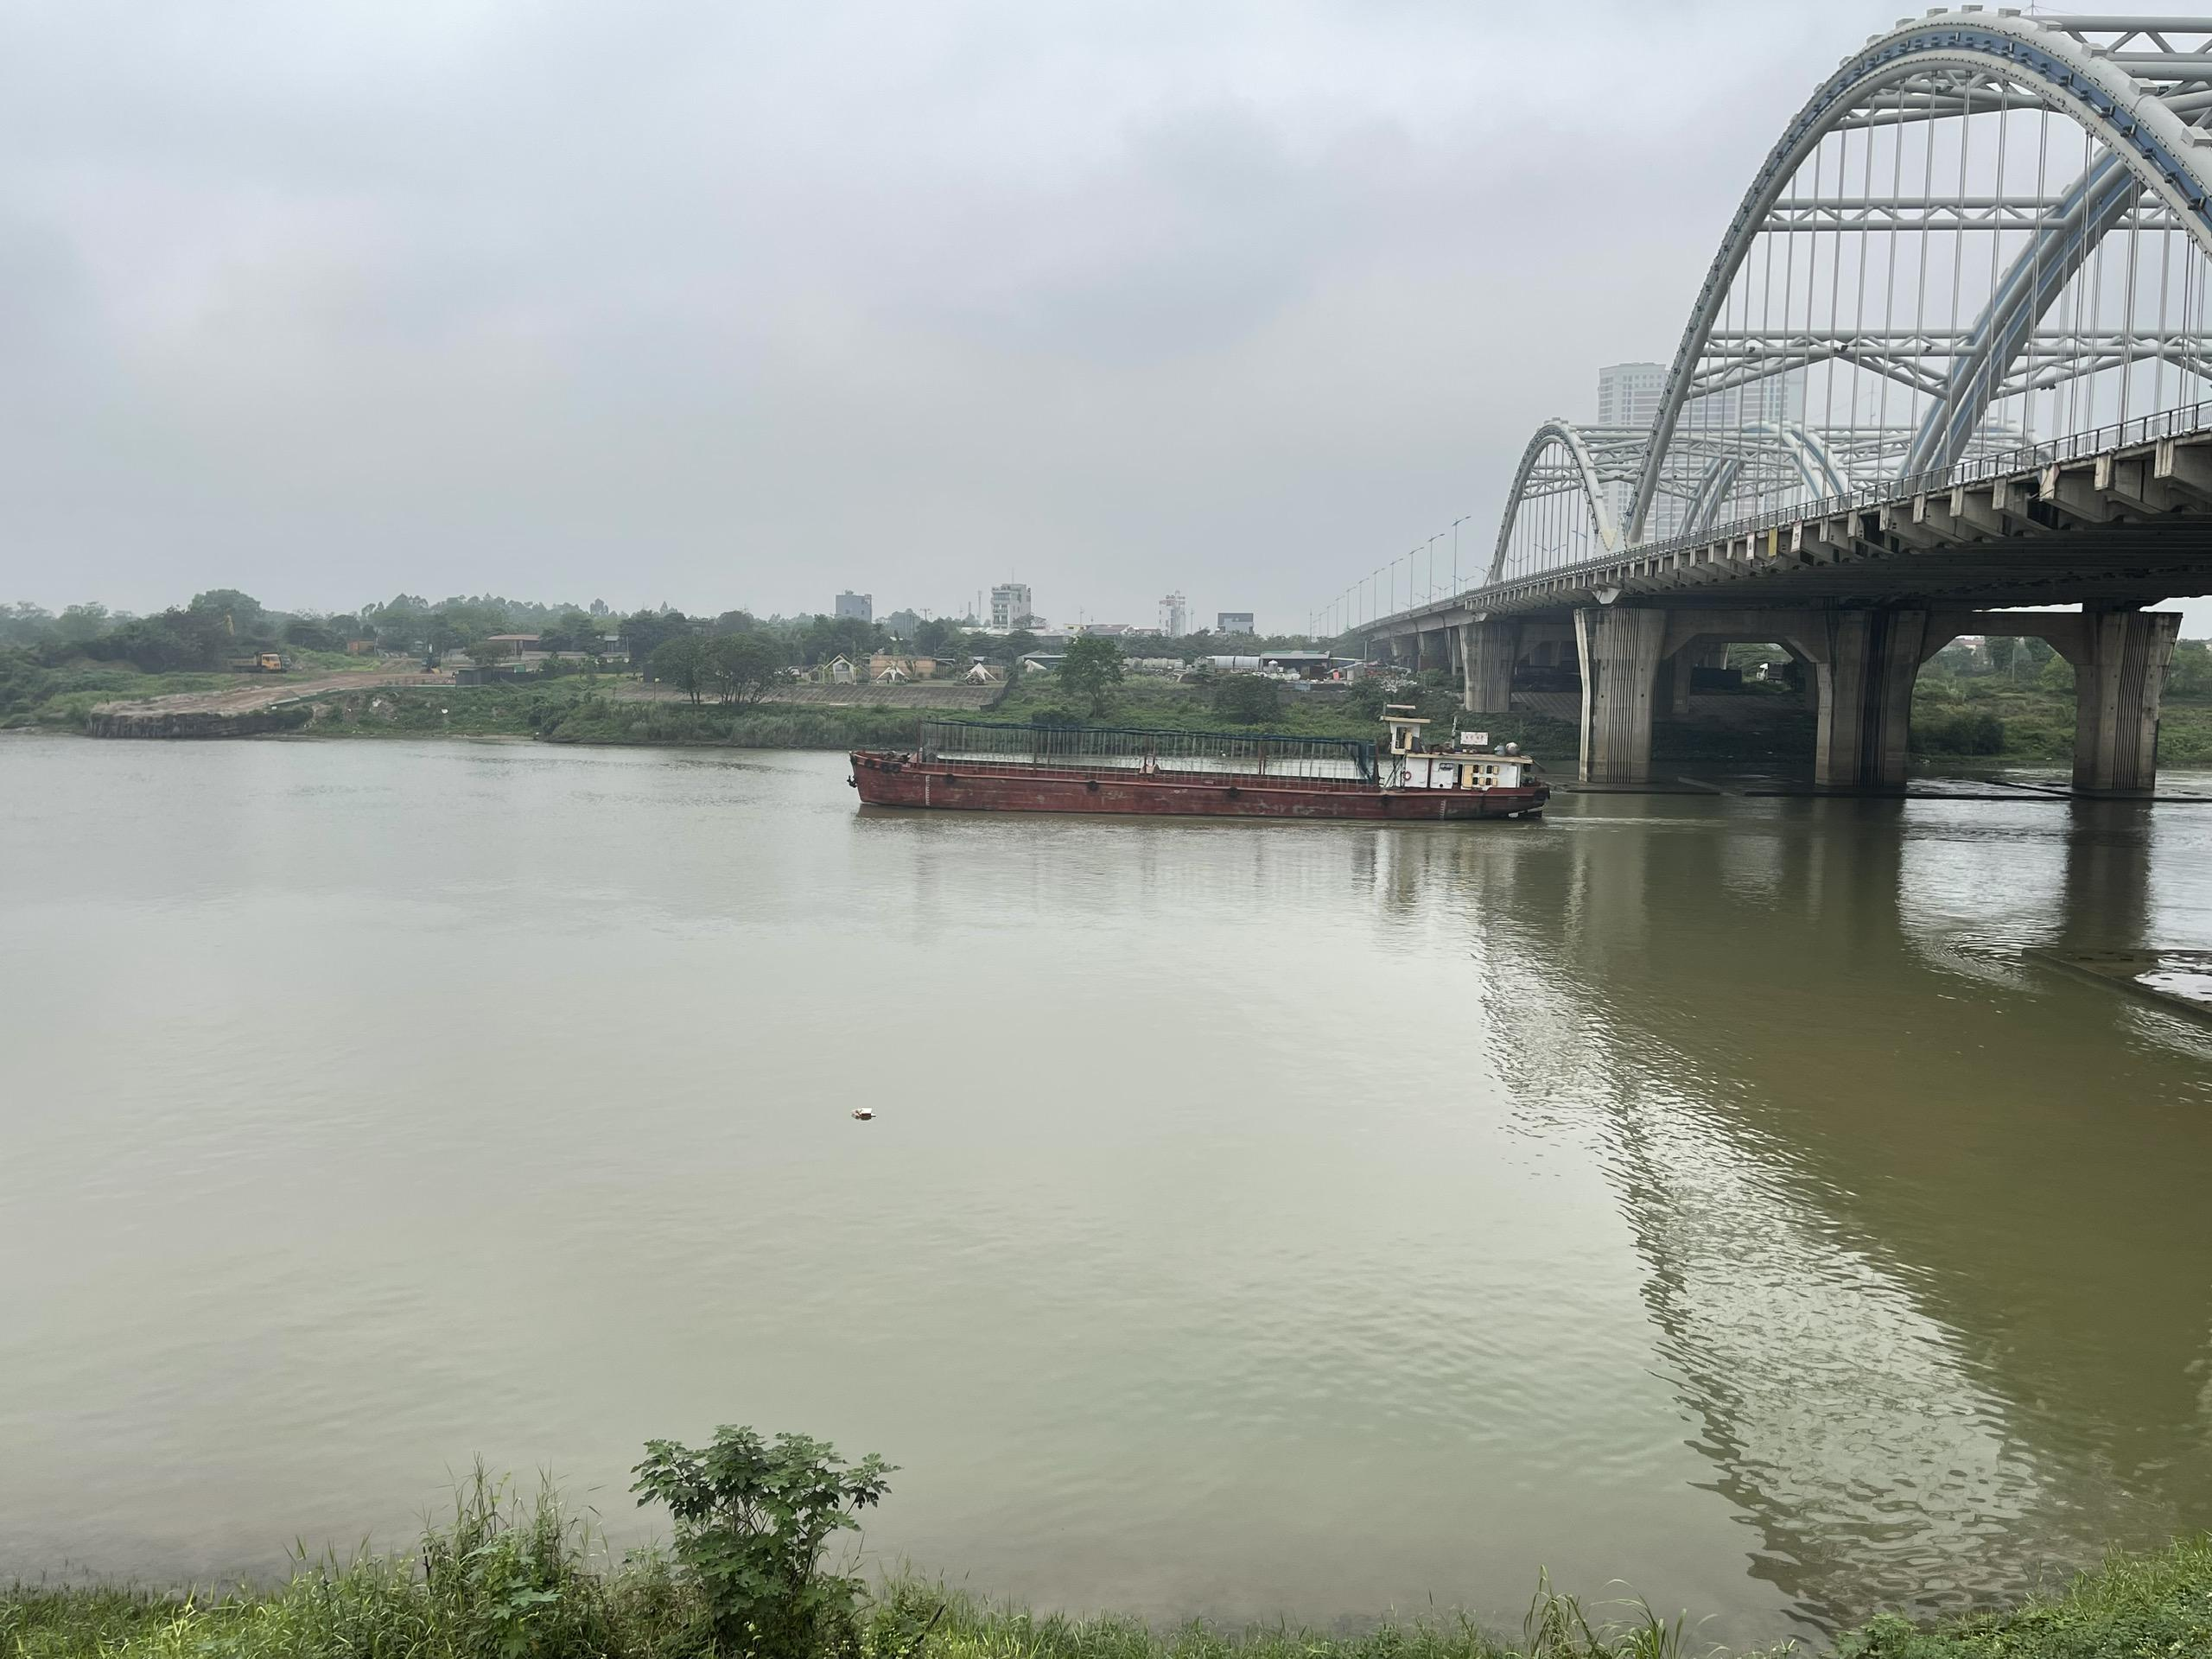Ship: (843, 713, 1564, 836)
